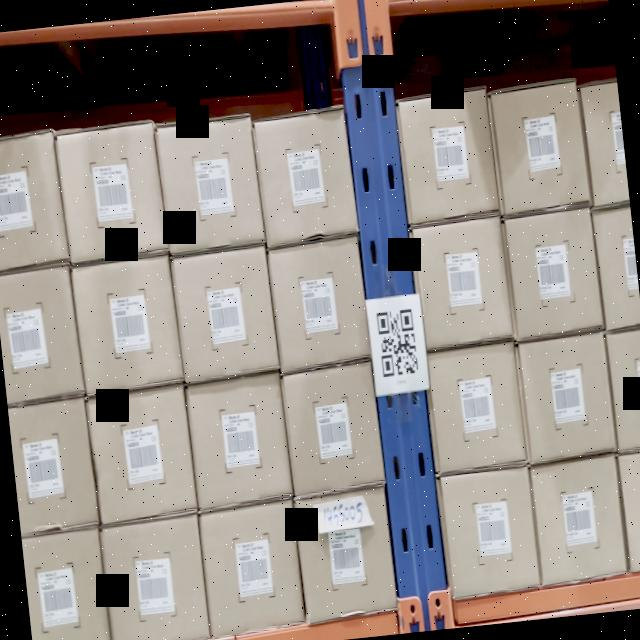box: (55, 117, 167, 264), (70, 252, 184, 391), (182, 370, 294, 509), (157, 114, 265, 257), (170, 242, 280, 382), (87, 386, 195, 524), (253, 110, 359, 248), (266, 232, 370, 372), (436, 464, 542, 598), (425, 342, 530, 476), (503, 204, 606, 340), (198, 499, 304, 631), (396, 90, 502, 222), (100, 513, 210, 640), (410, 218, 514, 351), (490, 80, 590, 216), (517, 332, 619, 462), (294, 486, 396, 615), (283, 365, 385, 492), (7, 396, 100, 534), (0, 260, 86, 409), (527, 456, 628, 582), (21, 523, 114, 640), (0, 126, 69, 267), (579, 82, 629, 207), (593, 202, 640, 325), (608, 326, 640, 453), (618, 447, 640, 576)
